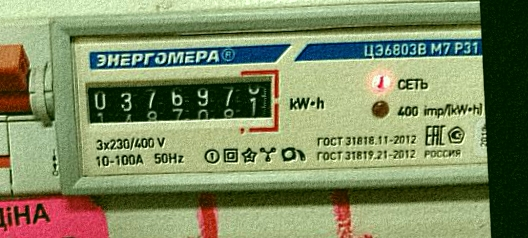0: (91, 88, 108, 110)
1: (247, 95, 259, 117)
3: (118, 89, 133, 113)
6: (170, 85, 184, 106)
7: (144, 85, 158, 110), (221, 83, 235, 107)
9: (195, 85, 209, 107)
screen: (78, 66, 284, 144)
